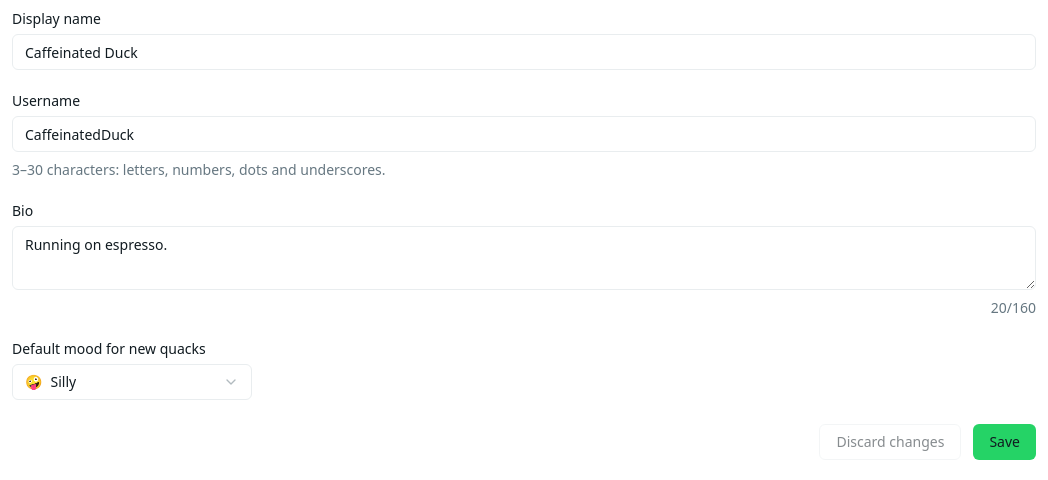
ProfileForm › saves, confirms and treats the saved values as the new baseline
The image size is (1048, 480).
Replace the text in the field labelled "Username" with "Decaf.Duck" at {"x": 524, "y": 134}, box [12, 116, 1036, 152]
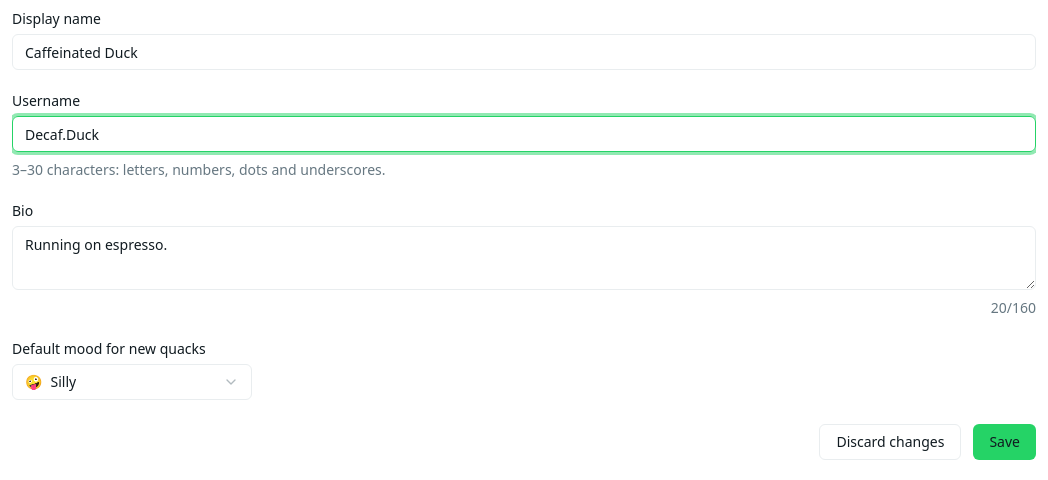
Clear the text box labelled "Bio" at {"x": 524, "y": 258}, box [12, 226, 1036, 290]
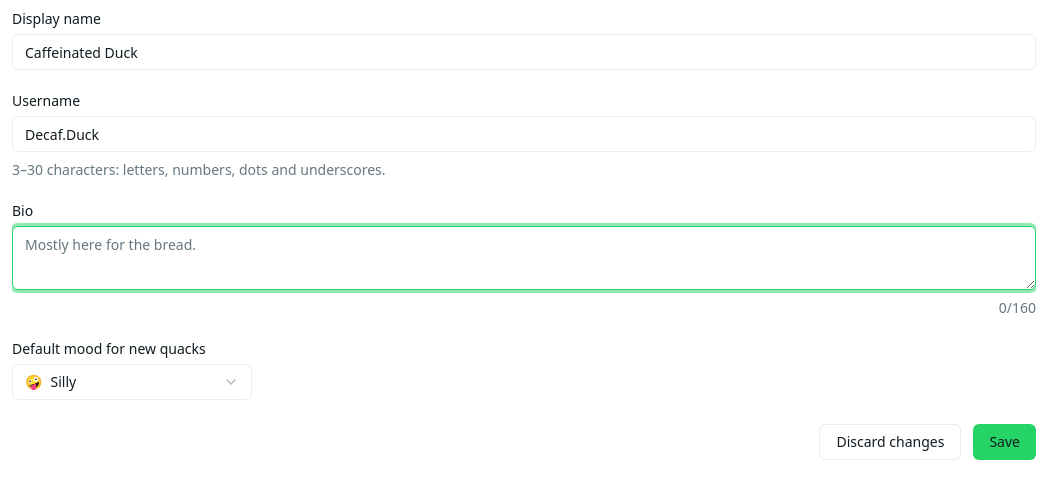
Click the button "Save".
click(1005, 442)  # box [973, 424, 1036, 460]
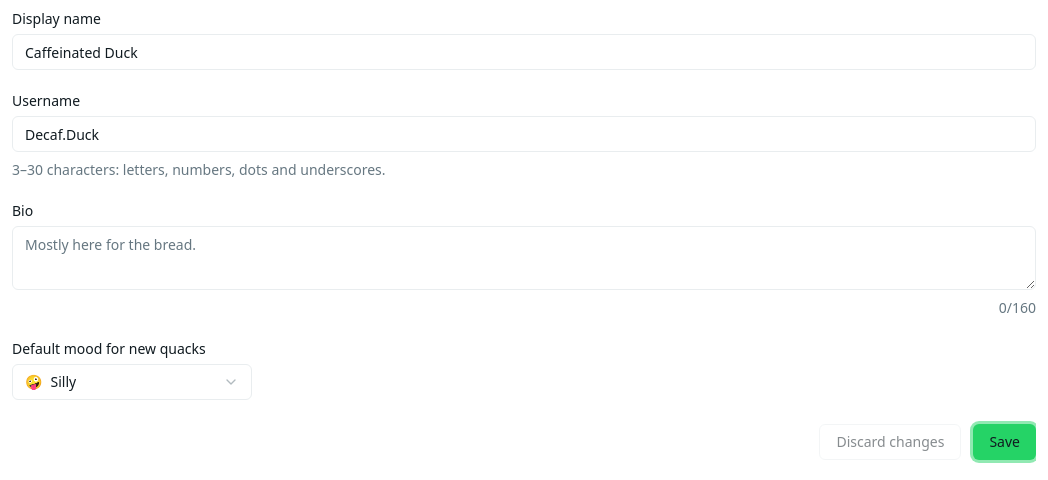
Now the button "Discard changes" is disabled, box [820, 424, 962, 460]
